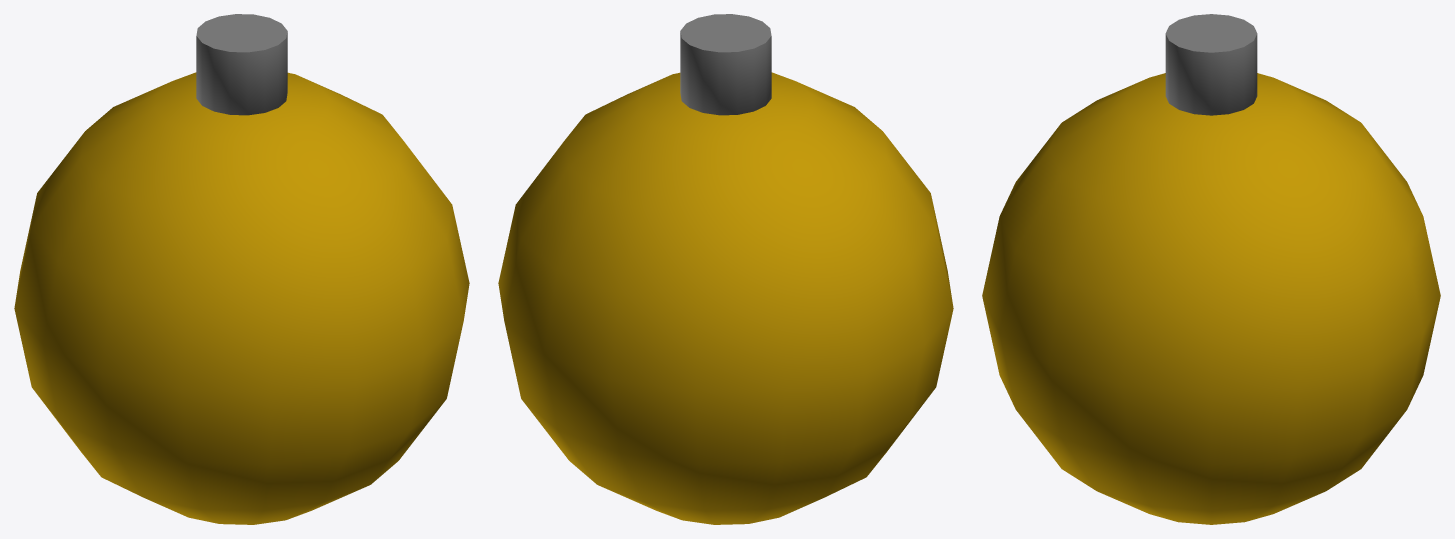
File: Ball-ornament.fbx
3 views of the same model, side by side, from view 1: azimuth 30°, elevation 25°; view 2: azimuth 150°, elevation 25°; view 3: azimuth 270°, elevation 25° (orthographic).
Parts seen in each view (by area): view 1: bola, gancho; view 2: bola, gancho; view 3: bola, gancho.
Part boxes in pixels (x1,y1,x2,y2): bola: [14, 72, 469, 524]; gancho: [196, 14, 287, 115]; bola: [498, 72, 953, 524]; gancho: [680, 14, 771, 115]; bola: [982, 73, 1440, 524]; gancho: [1165, 14, 1257, 115].
Bounding box in the file's own units: 10 × 11.31 × 10.
